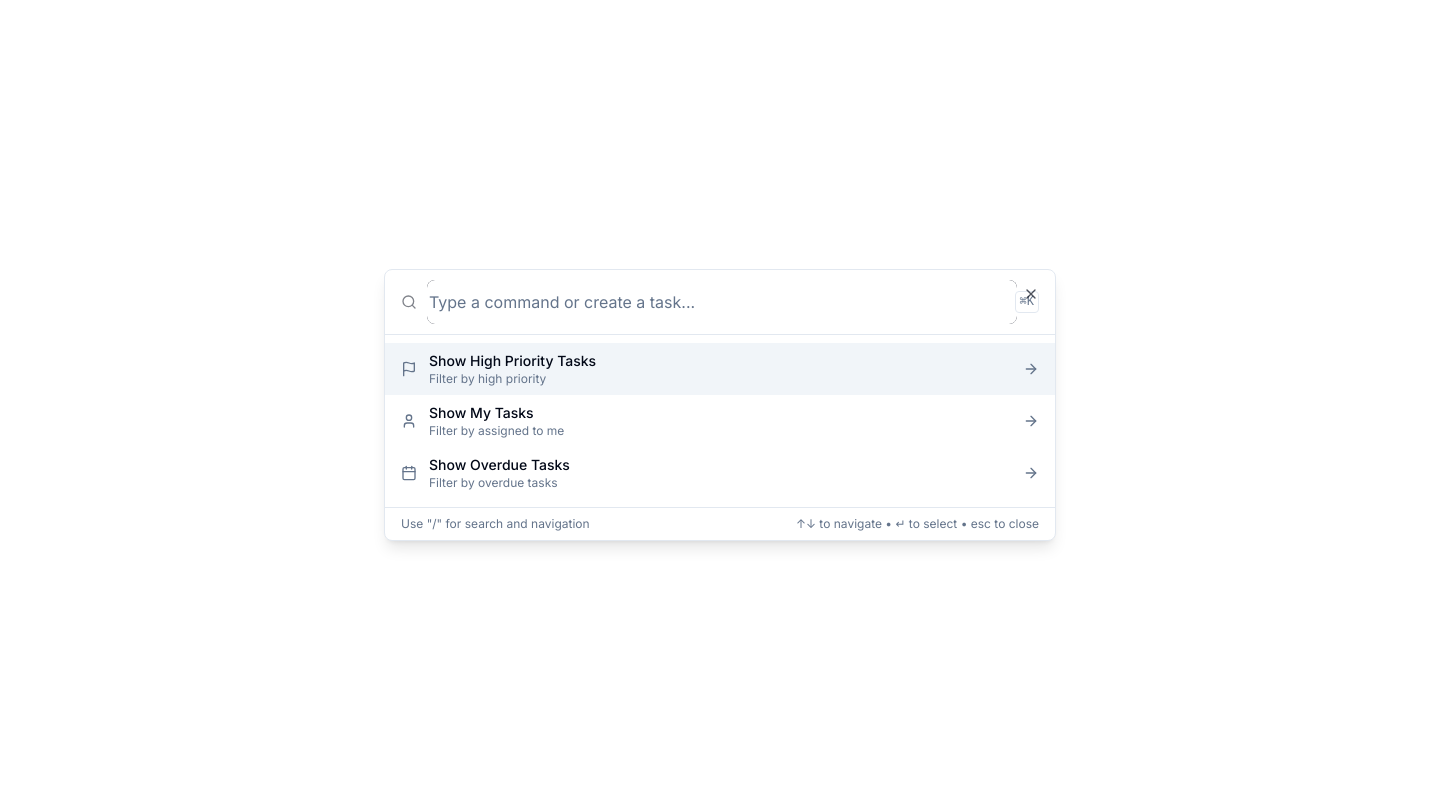
CommandPalette › should show task preview with all parsed attributes
Type "Fix critical bug high priority tomorrow @alice 3h #urgent #backend" into the field with placeholder "Type a command or create a task..." at (722, 302), box [429,282,1015,322]
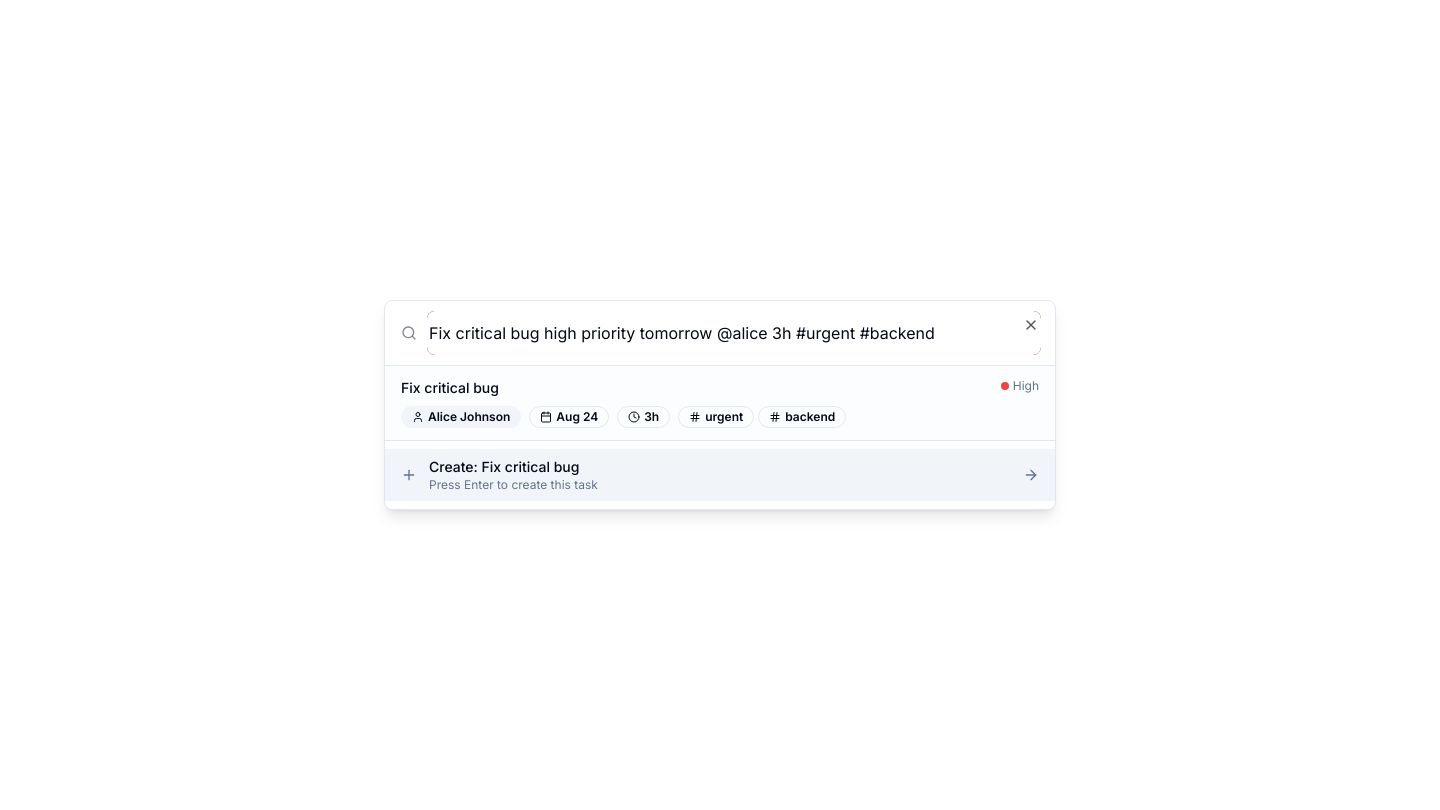
Expected: the text "Fix critical bug" is shown, [401,379,499,396]
Expected: the text "Alice Johnson" is shown, [401,406,521,428]
Expected: the text "3h" is shown, [617,406,670,428]
